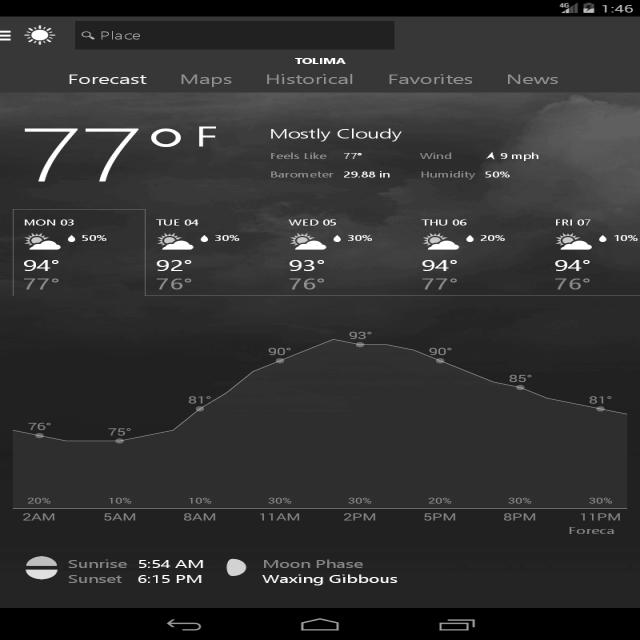EditText: (72, 19, 401, 51)
ImageView: (550, 229, 610, 259), (16, 230, 79, 254), (156, 230, 214, 256), (280, 234, 346, 255), (16, 22, 58, 48), (27, 555, 66, 583), (218, 555, 250, 578)
TextView: (19, 121, 227, 187), (260, 556, 402, 586), (70, 554, 208, 582), (269, 128, 411, 144), (60, 70, 156, 88), (555, 260, 598, 300), (576, 492, 628, 524), (383, 72, 477, 88), (420, 256, 457, 294), (175, 70, 238, 90), (289, 261, 328, 293), (292, 55, 353, 70), (420, 216, 470, 230), (506, 370, 540, 388), (182, 393, 220, 409), (259, 513, 307, 524), (342, 511, 383, 523), (157, 216, 197, 227), (24, 496, 58, 508), (268, 345, 294, 357)
